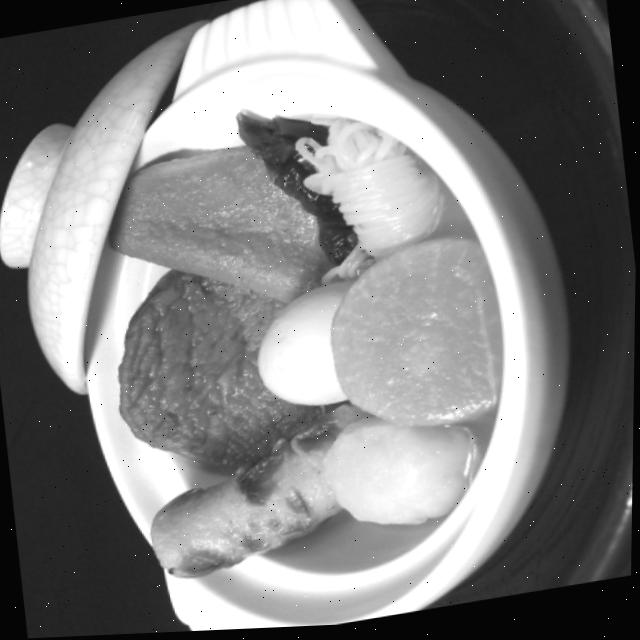汤锅炖物: (80, 84, 528, 591)
